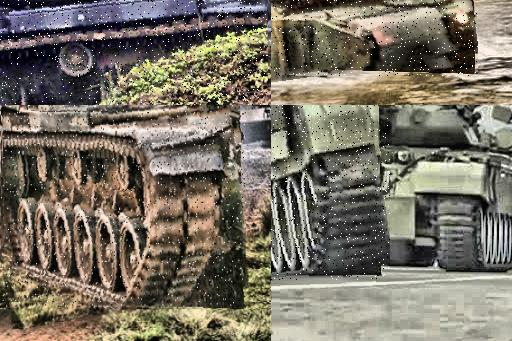tanks: (2, 106, 247, 308), (1, 1, 268, 106), (365, 106, 512, 273), (272, 106, 390, 279), (272, 1, 478, 77)
